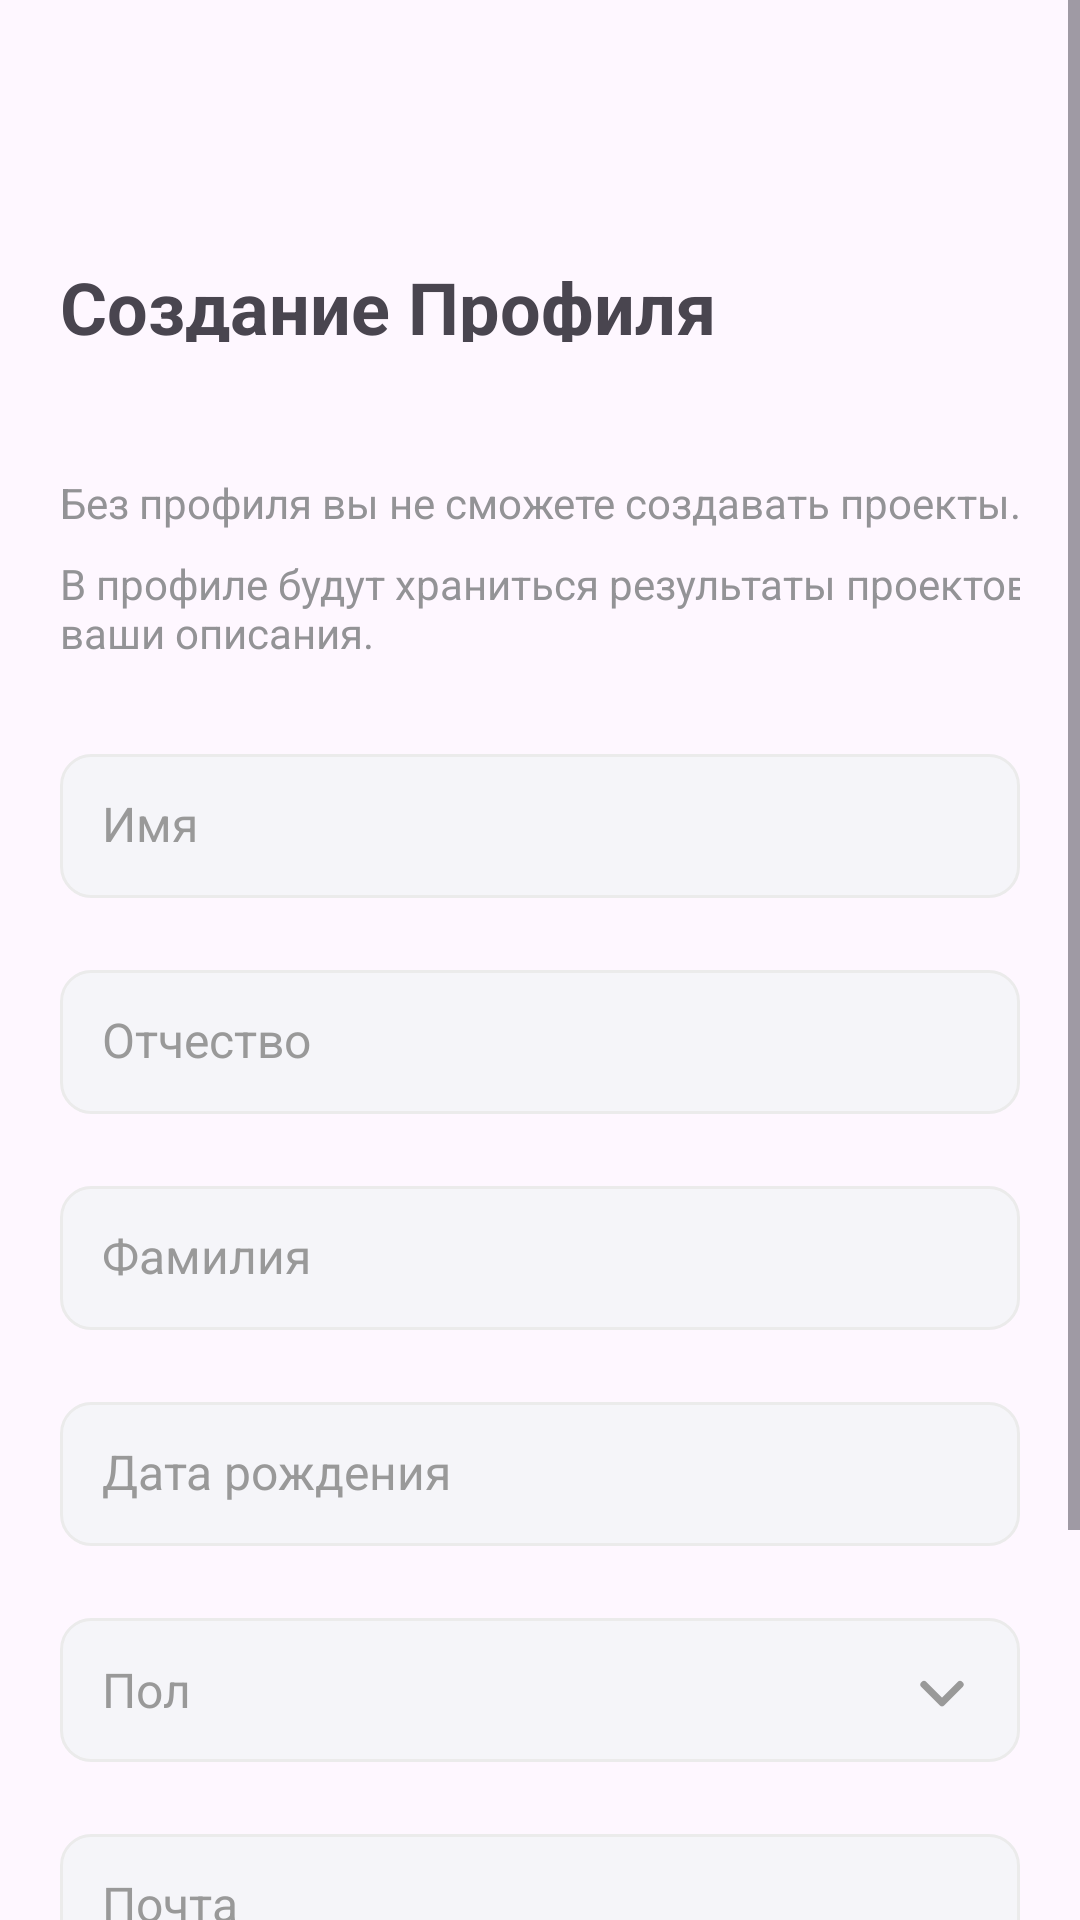

Point at icon controls on the screen. Image size 1080×1920, points as point (x, y).
select gender: point (942, 1694)
